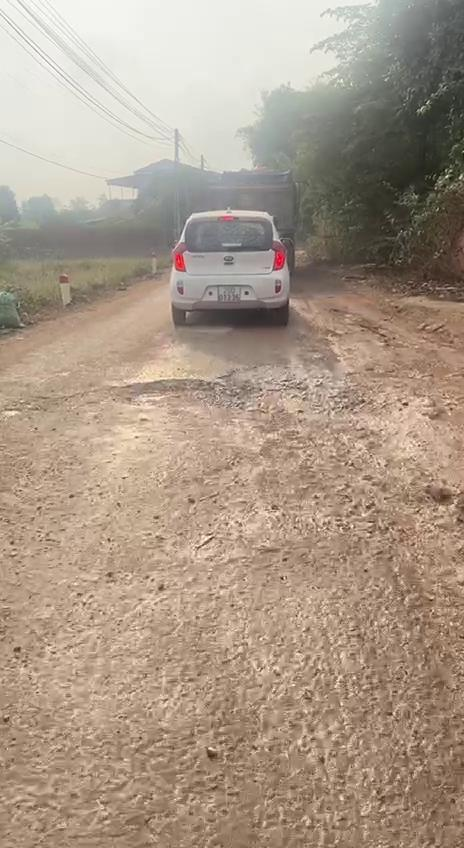pothole: (108, 374, 355, 424)
